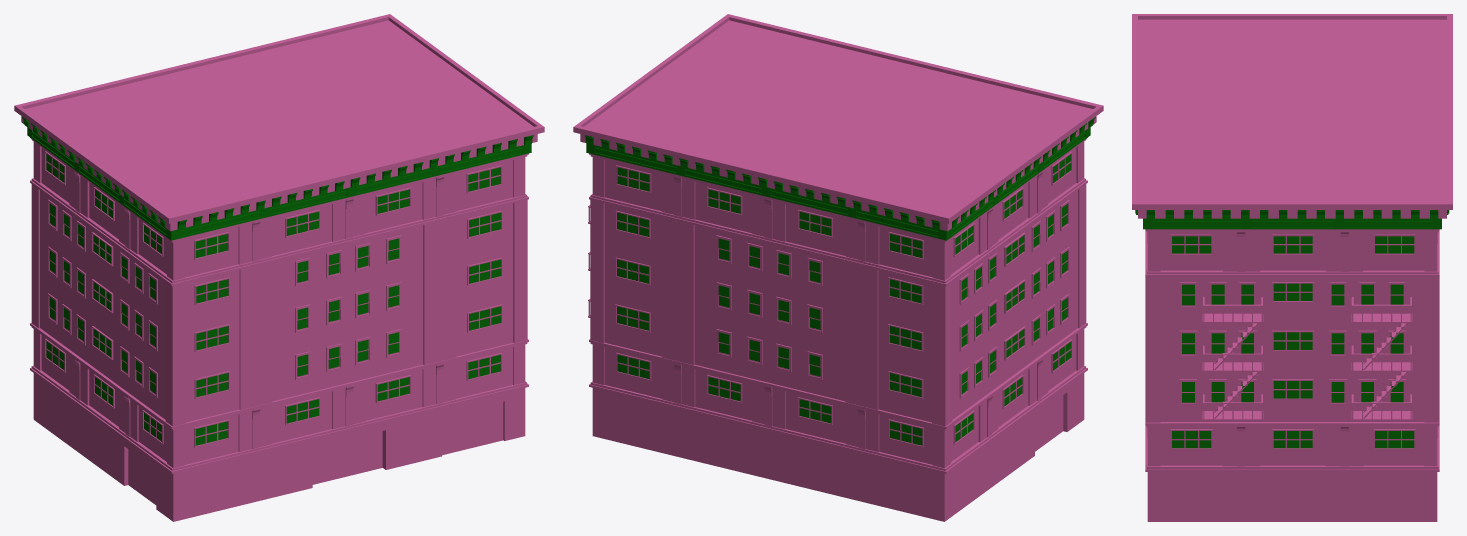
File: Big01.fbx
The picture shows the model from 3 angles, left to right: view 1: azimuth 30°, elevation 25°; view 2: azimuth 150°, elevation 25°; view 3: azimuth 270°, elevation 25°; orthographic projection. The views are drawn at different scales.
Visible parts, largest first — view 1: Cube.071; view 2: Cube.071; view 3: Cube.071.
Part boxes in pixels (left/top/right/bottom): Cube.071: left=14, top=14, right=544, bottom=521; Cube.071: left=573, top=14, right=1103, bottom=521; Cube.071: left=1132, top=14, right=1452, bottom=521.
Size of the model in its own units: 984 by 770 by 691.
